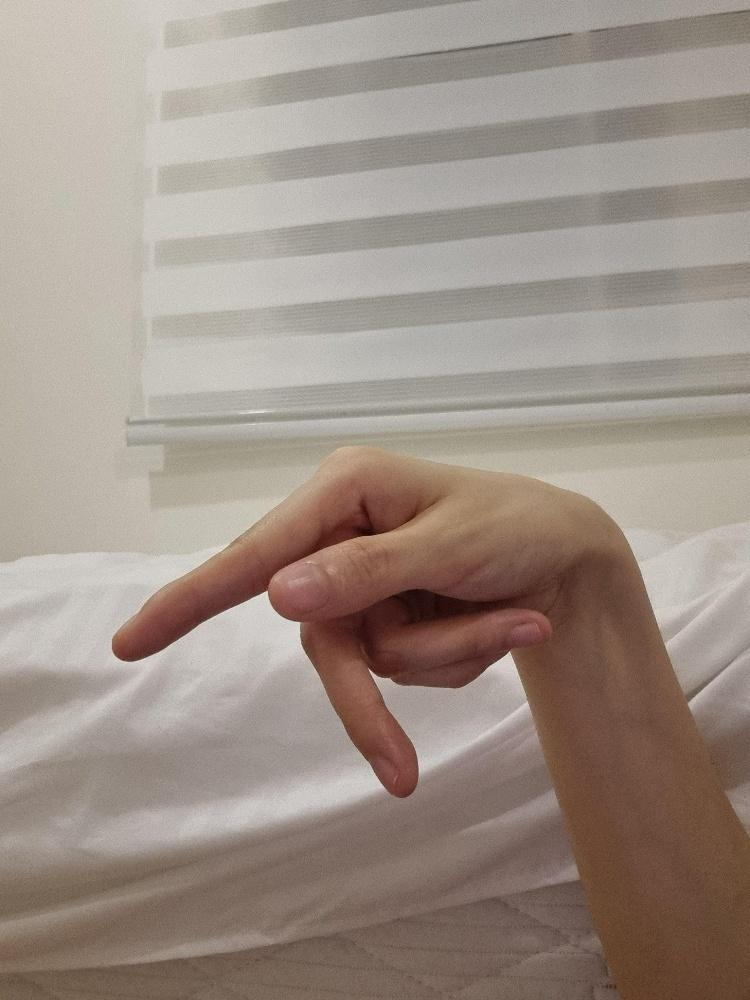p: (109, 446, 598, 799)
